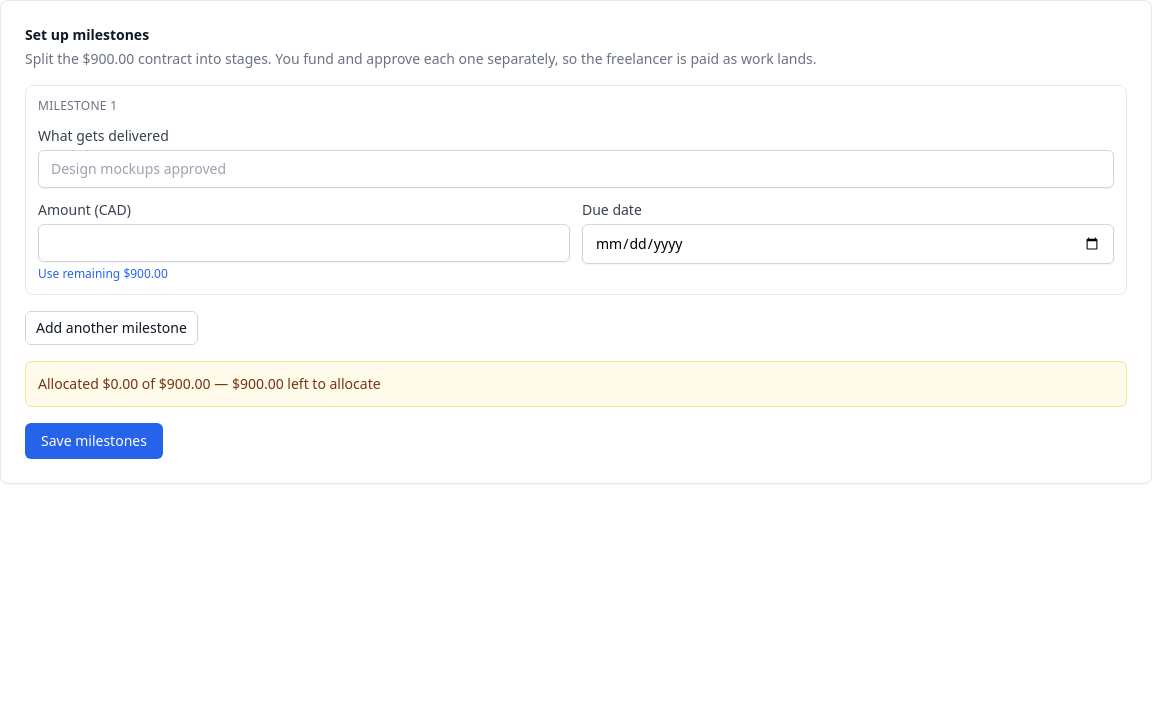
Test: MilestoneSetupForm › refuses to submit a breakdown that does not sum to the contract total
The width and height of the screenshot is (1152, 720).
Step 1. Type "Design" into the field labelled "What gets delivered" → (576, 169), box [38,150,1114,188]
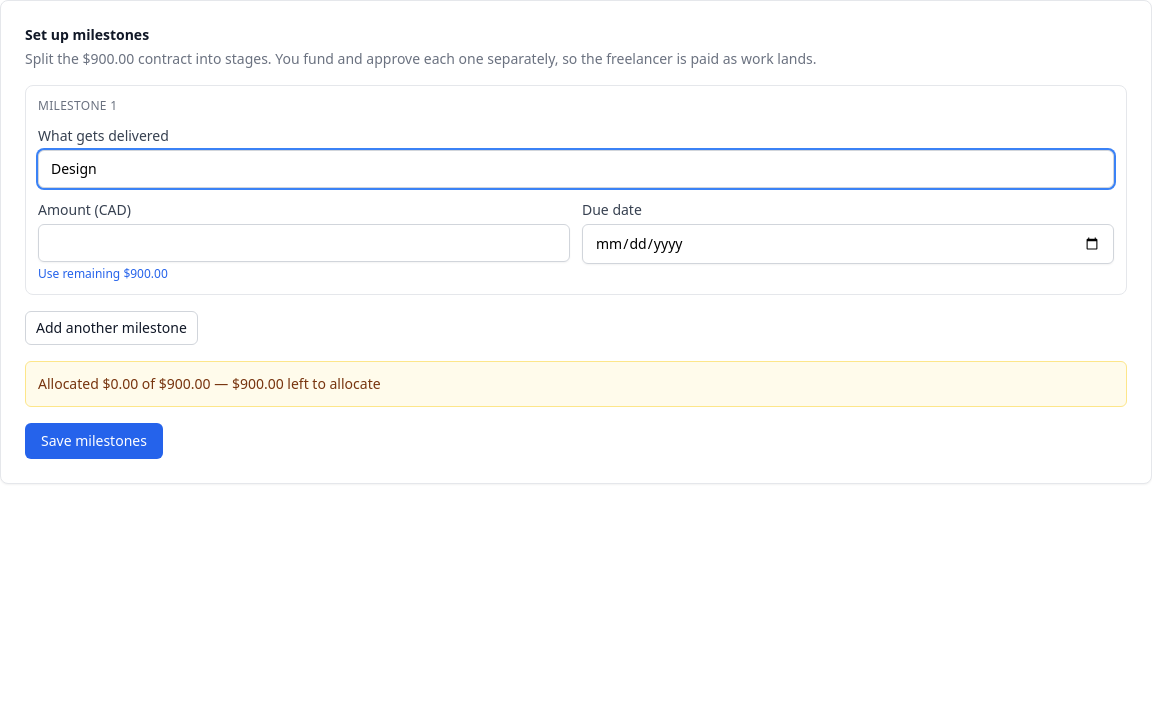
Step 2. Type "400.00" into the number field labelled "Amount (CAD)" → (304, 243), box [38,224,570,262]
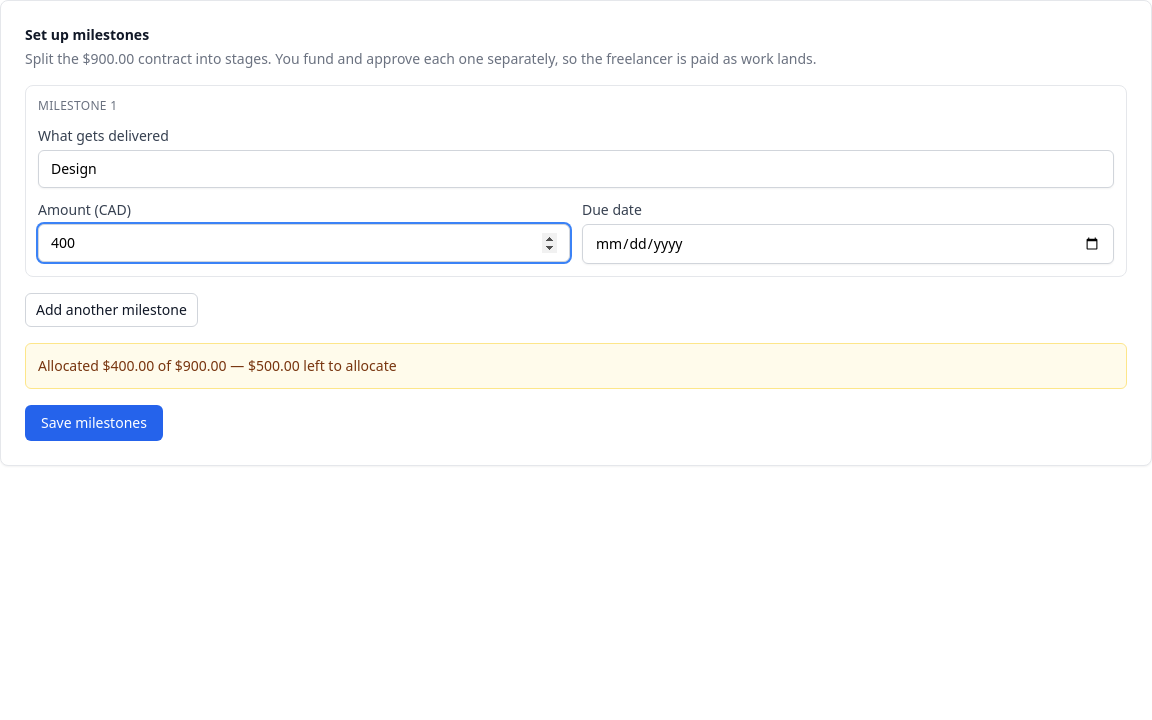
Step 3. Type "2027-01-01" into the date field labelled "Due date" → (848, 244), box [582,224,1114,264]
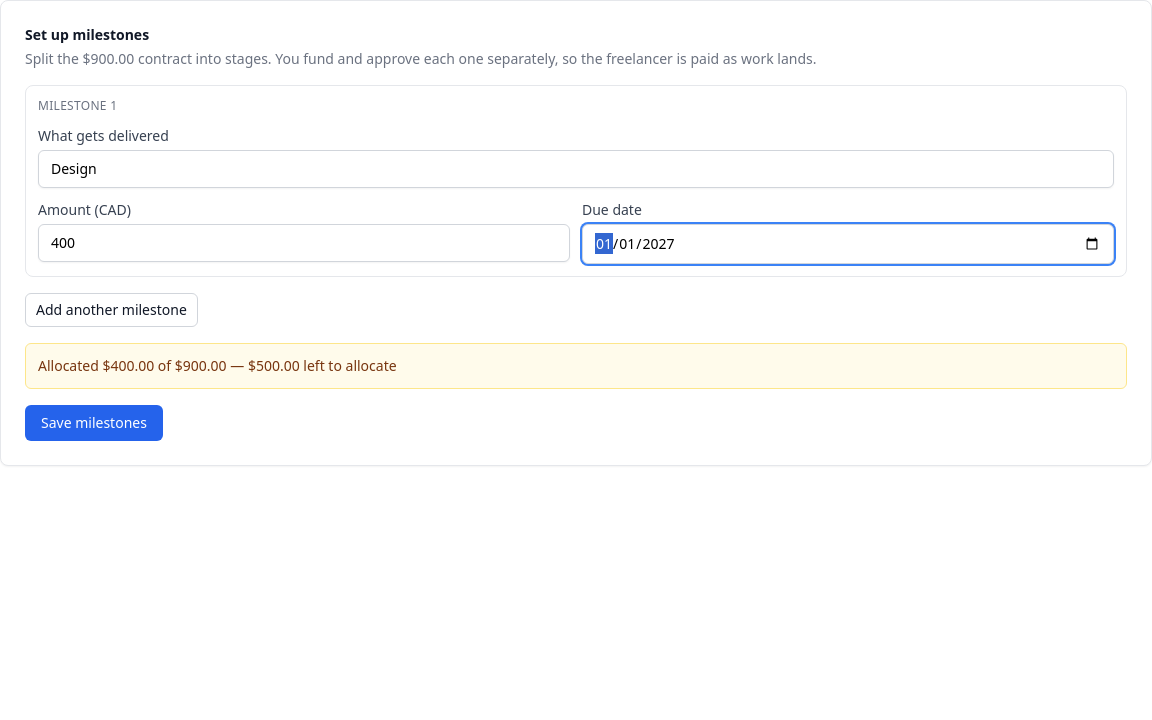
Step 4. Click the button "Save milestones" → (94, 423), box [25,405,163,441]
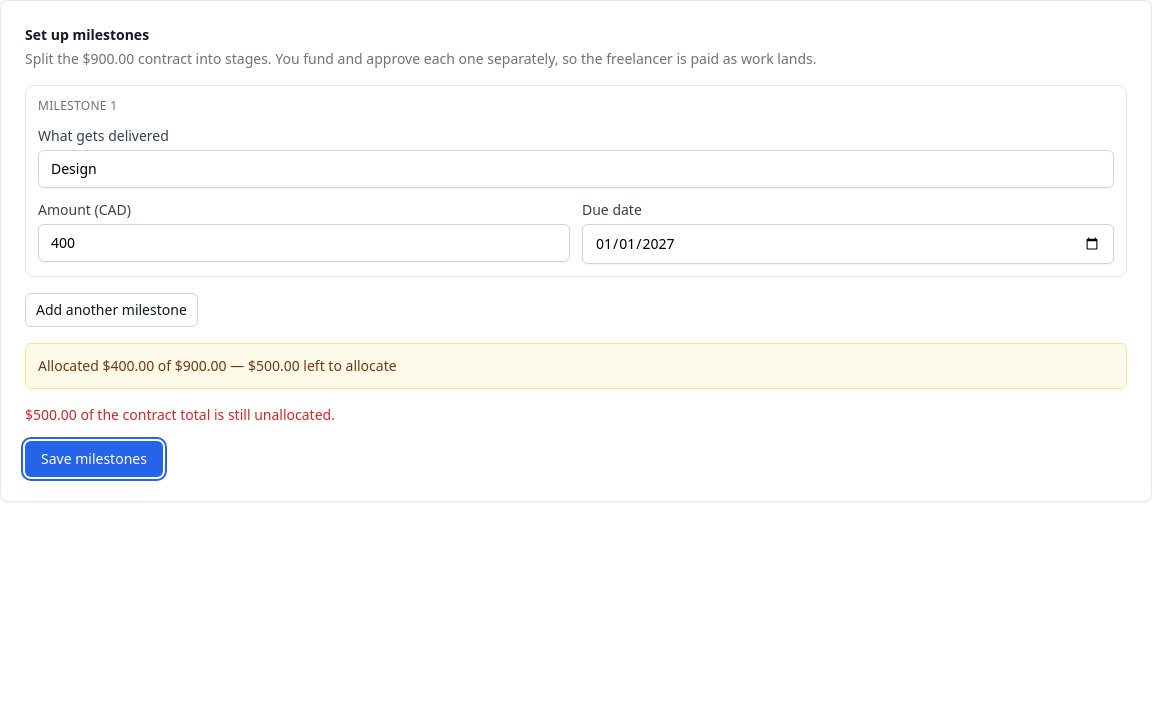
Expected: the text "$500.00 of the contract total is still unallocated." is shown, [25,405,335,424]
